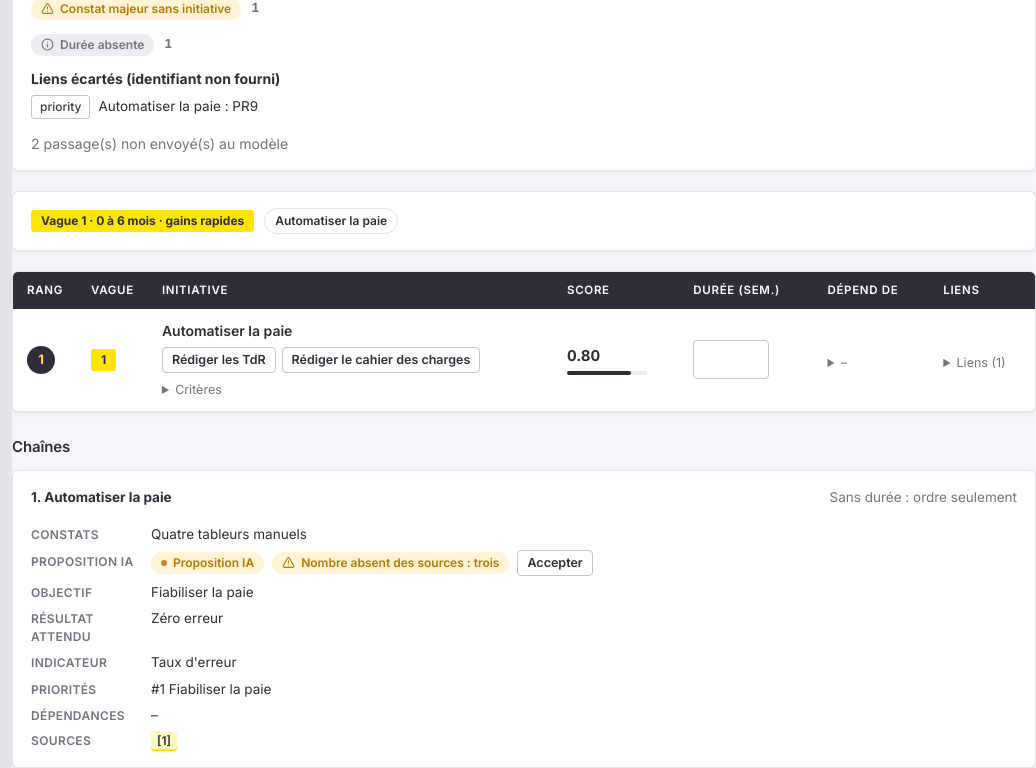
it: feuille de route : cohérence › affiche les écarts, les liens écartés, la chaîne et ouvre la source
The image size is (1036, 768).
(page scrolled)
Expected: the list item with test id "issue-NO_DURATION" shows "1", [164,36,172,51]
Expected: the element with test id "rejected-links" shows "PR9", [232,98,258,114]
Click the button "[1]" at (164, 741), box [151,731,177,751]
(page scrolled)
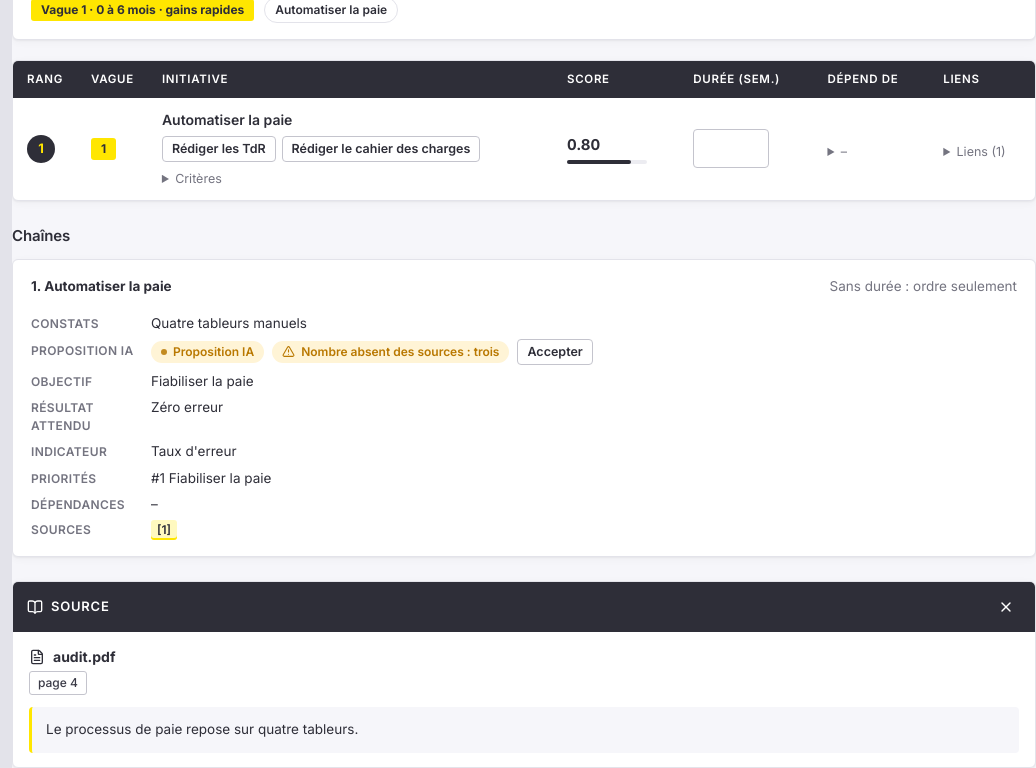
Expected: the text "Le processus de paie repose sur quatre tableurs." is shown, [29,707,1019,753]
Expected: the text "audit.pdf" is shown, [29,648,116,665]
